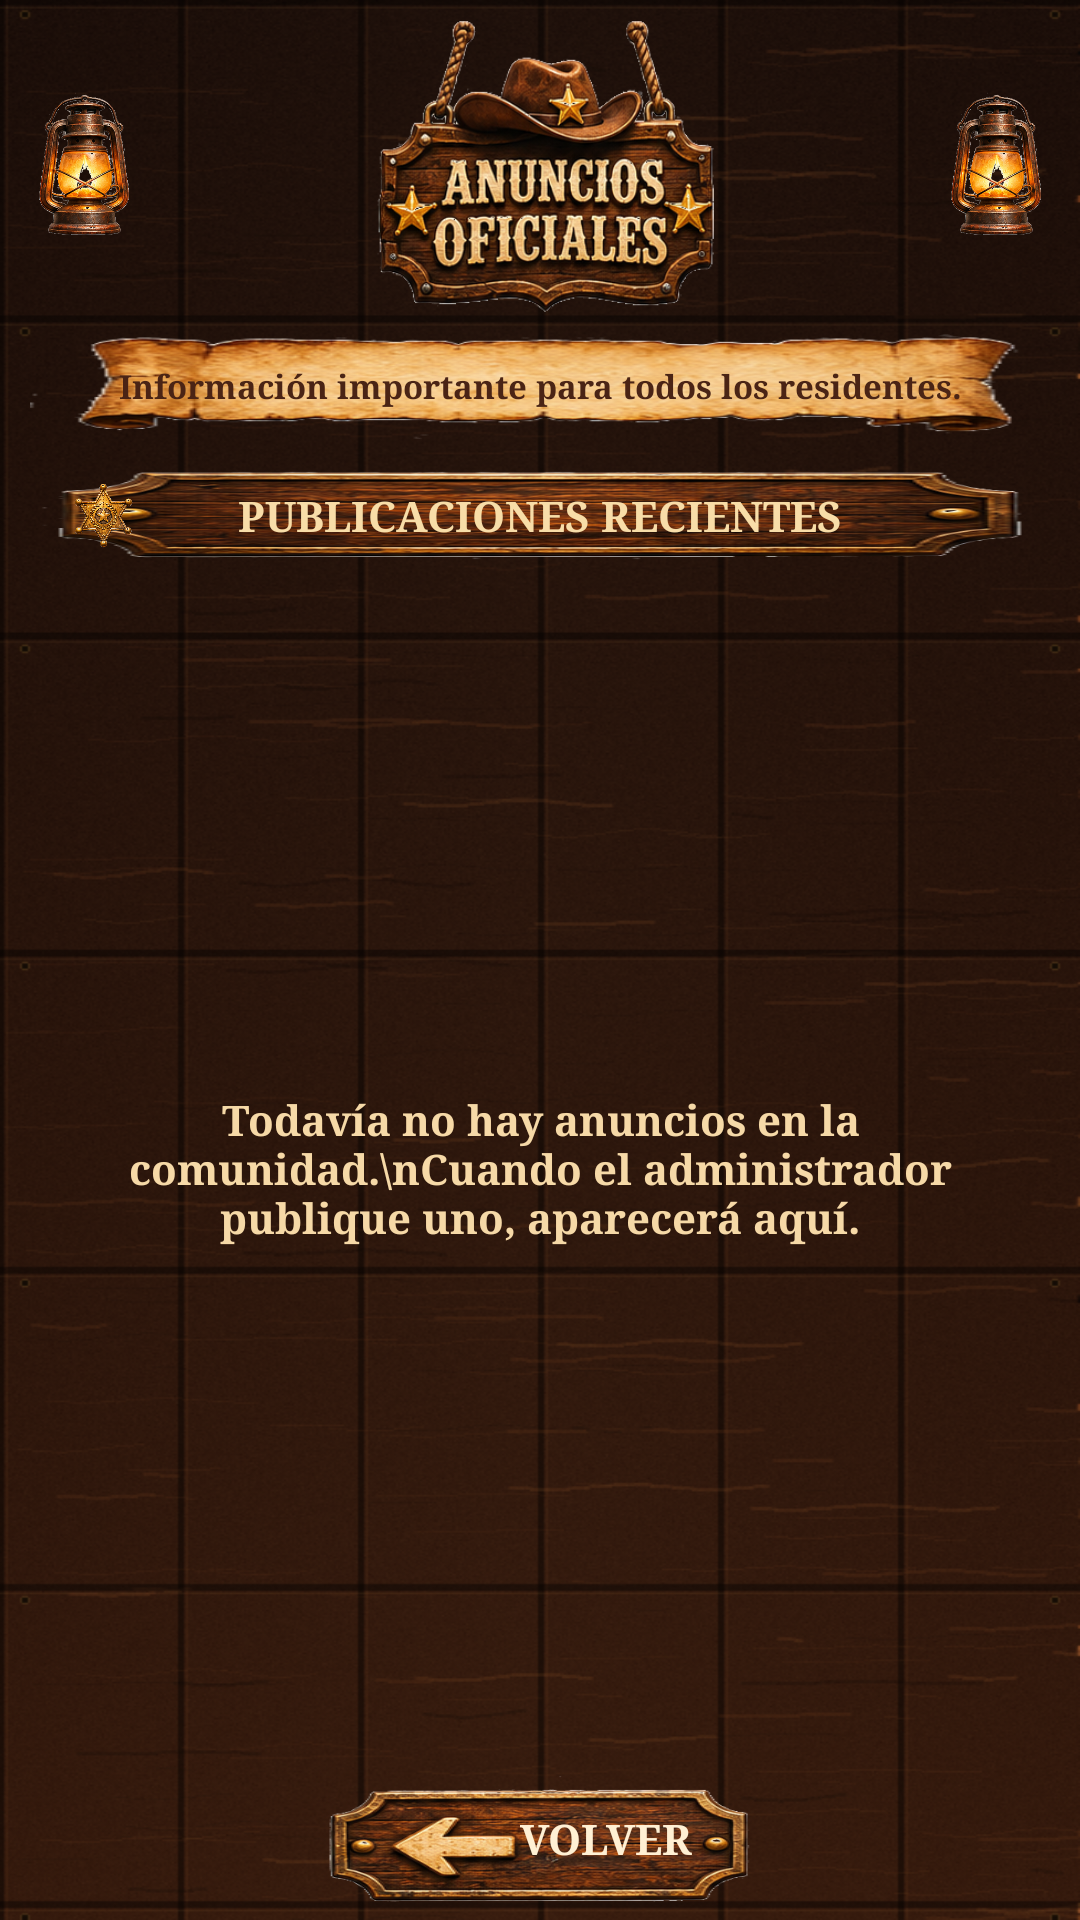

Where icons sit on this 1080w x 1920h app screen, as [x1, y1, x2, y2]:
Estrella del sheriff: [69, 481, 138, 550]
Farol decorativo: [39, 93, 129, 235], [951, 95, 1041, 235]
